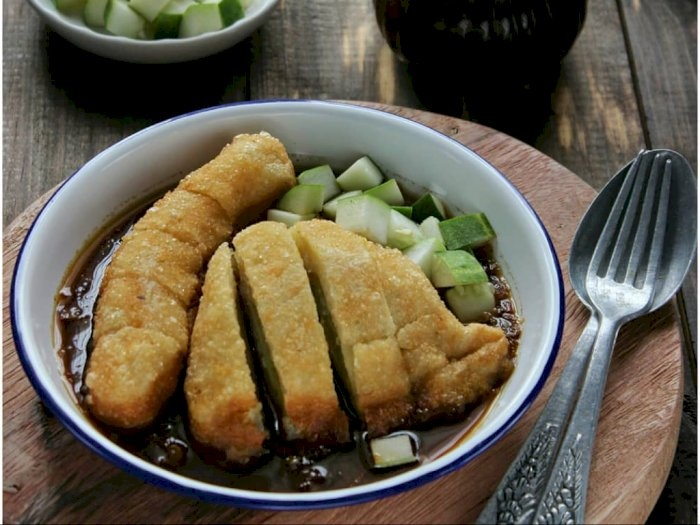pempek: (76, 133, 529, 490)
